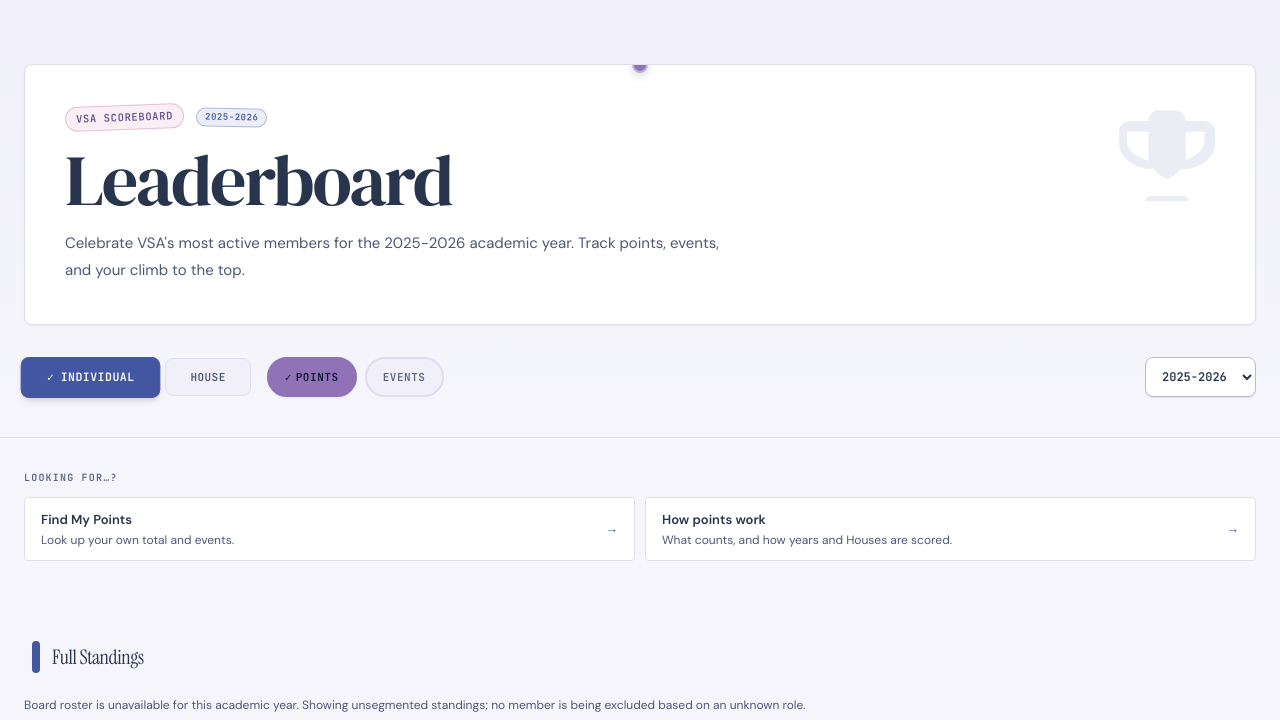
Test: uses cached data when switching back to all-time from a yearly view
This screenshot has width=1280, height=720.
# Switch to yearly
Select "2025-2026" in the dropdown named "Select academic year" at (1200, 377), box [1145, 357, 1256, 397]
# Switch back to all-time — should use cached data, no new fetch within staleTime
Select "ALL-TIME" in the dropdown named "Select academic year" at (1200, 377), box [1145, 357, 1256, 397]
(page scrolled)
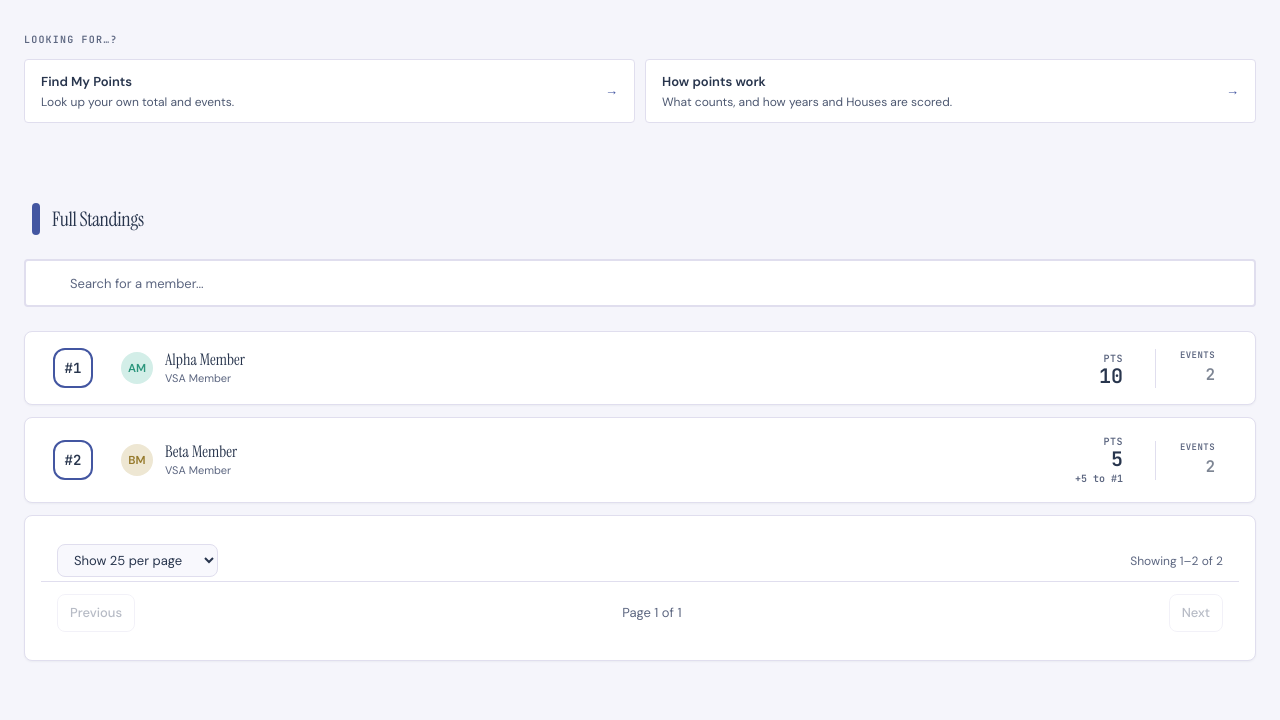
Now the text "Alpha Member" is shown, box [165, 350, 245, 370]
